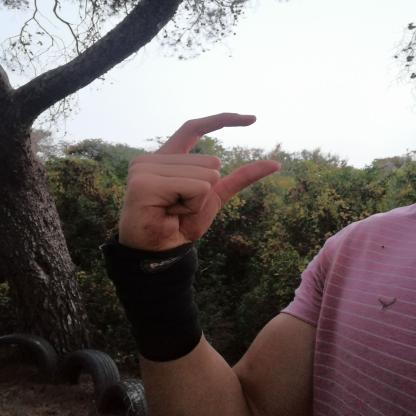DELL: (95, 100, 296, 262)
